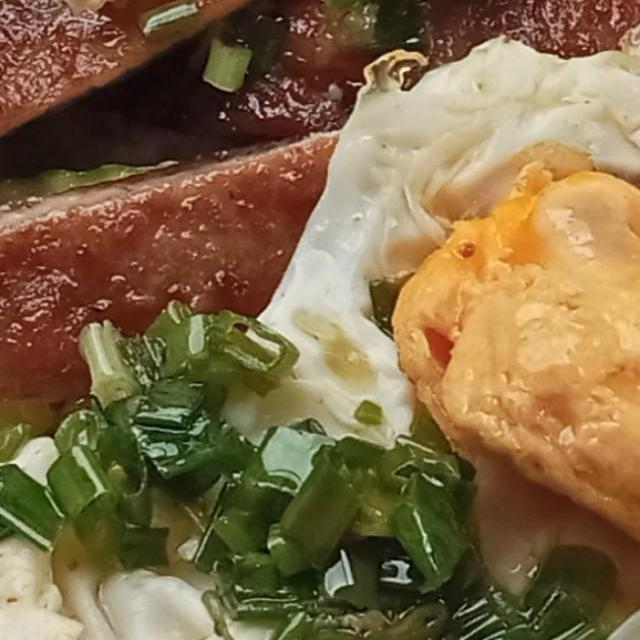com suon bi cha trung: (0, 0, 640, 640)
suon: (0, 0, 640, 417), (0, 0, 640, 311)
trung: (0, 15, 640, 640)
